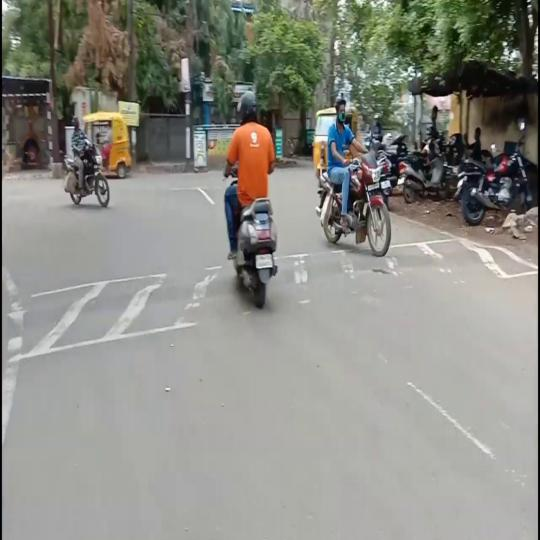Speed Bump: (2, 276, 237, 340), (390, 246, 522, 268), (279, 252, 374, 280)
